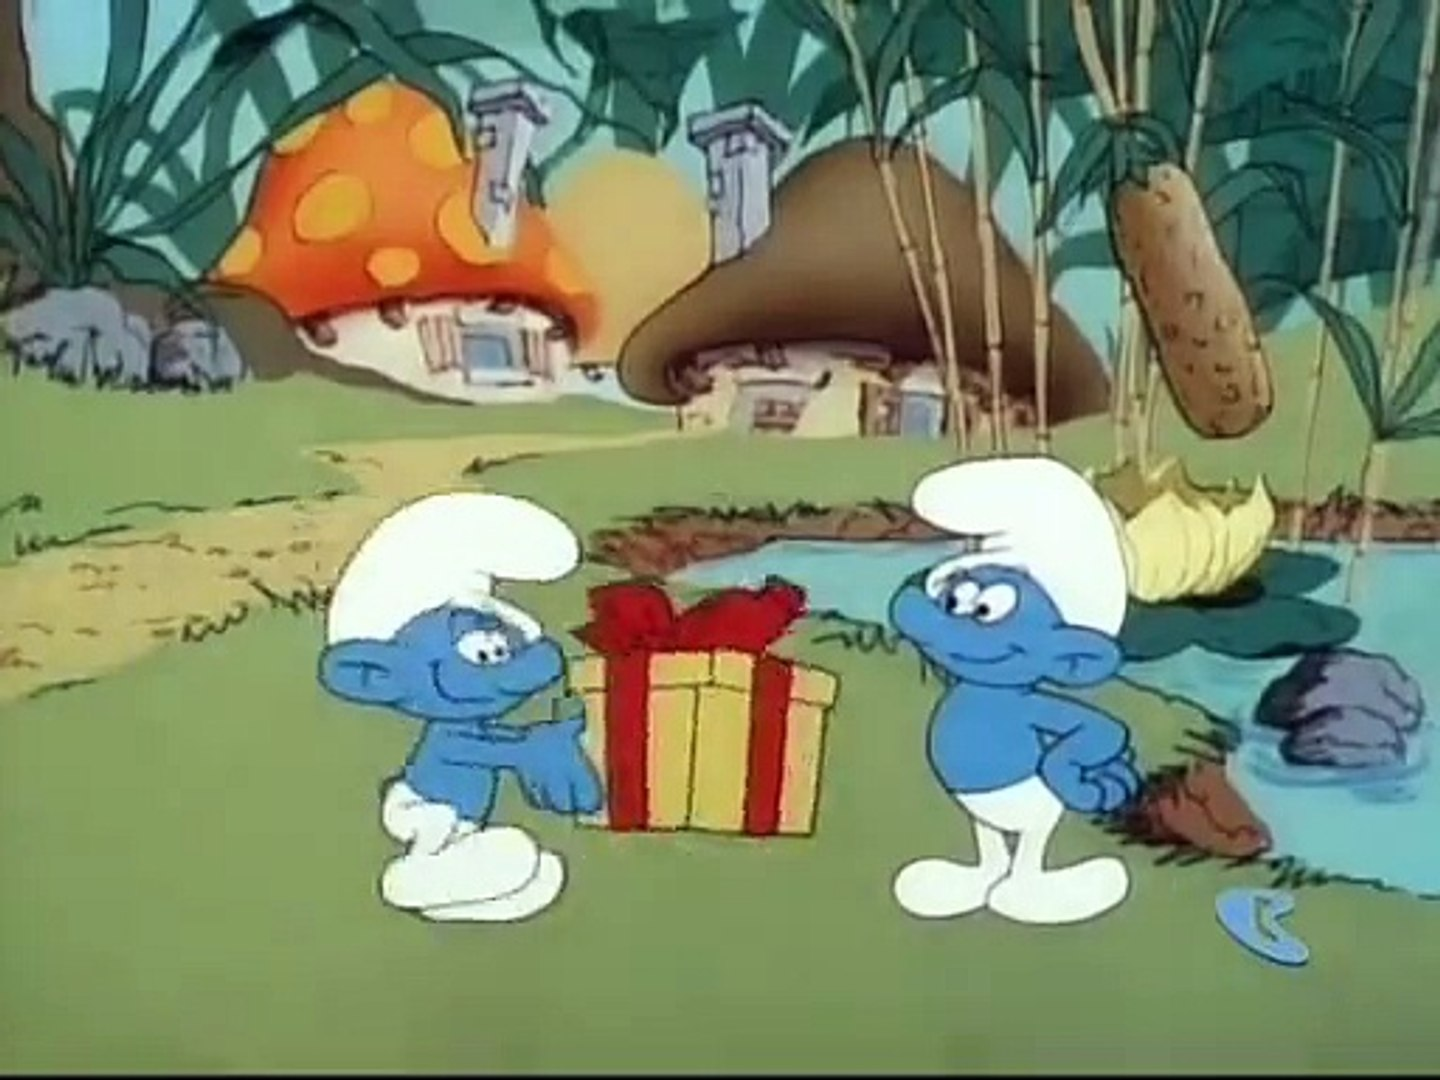smurf: (319, 485, 597, 923), (891, 458, 1137, 927)
